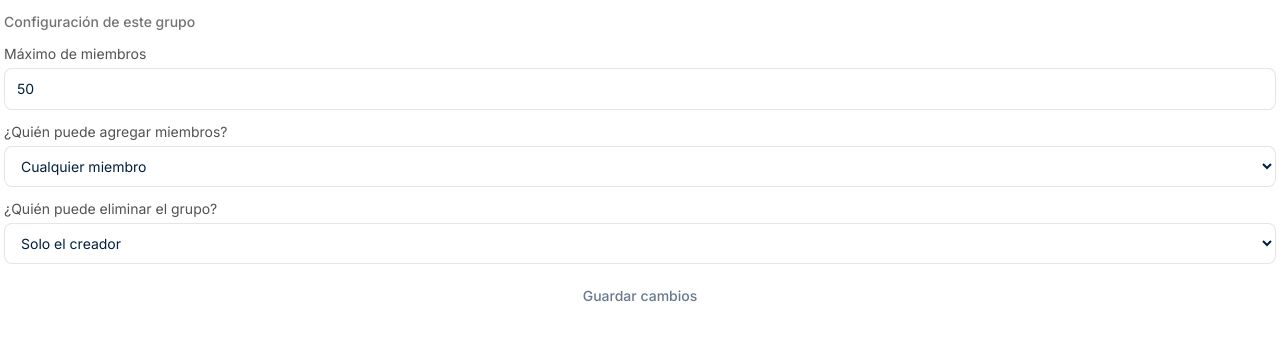
Test: GroupSettingsSection › validates maxGroupMembers must be integer >= 2
Replace the text in the number field labelled "Máximo de miembros" with "1" at (640, 89), box [4,68,1276,110]
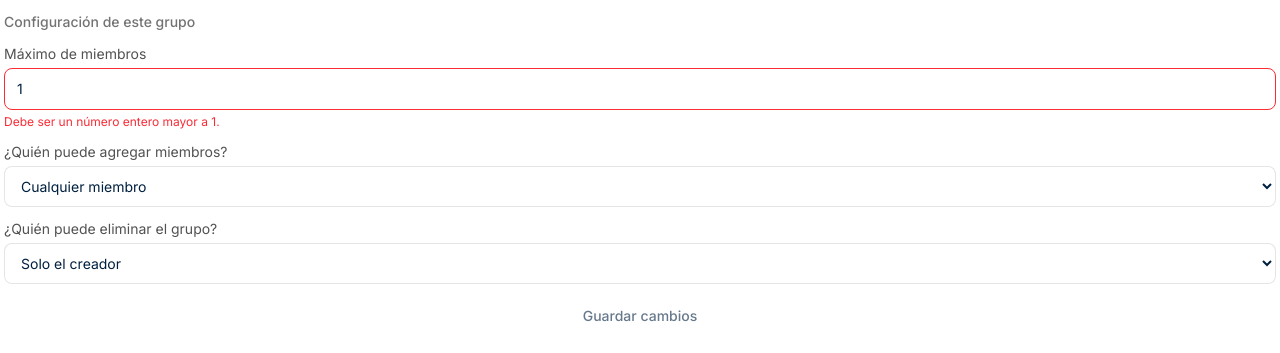
Expected: the button "Guardar cambios" is disabled, [4,296,1276,336]
Expected: the text "Debe ser un número entero mayor a 1." is shown, [4,114,220,129]
